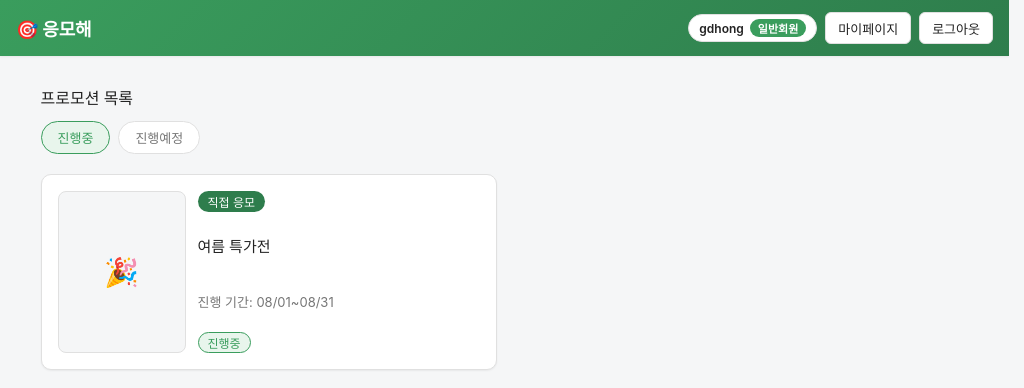
Test: PromotionList › 진행예정 chip 클릭 시 UPCOMING 프로모션만 보인다
Expected: the heading "여름 특가전" is shown, [198, 237, 270, 256]
Click the button "진행예정".
click(159, 138)  # box [118, 121, 200, 154]
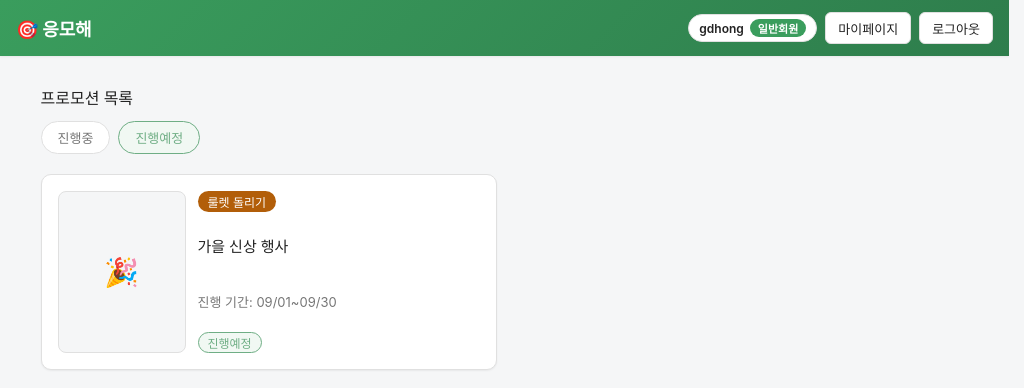
Expected: the heading "가을 신상 행사" is shown, [198, 237, 288, 256]
Expected: the link "여름 특가전" is gone
